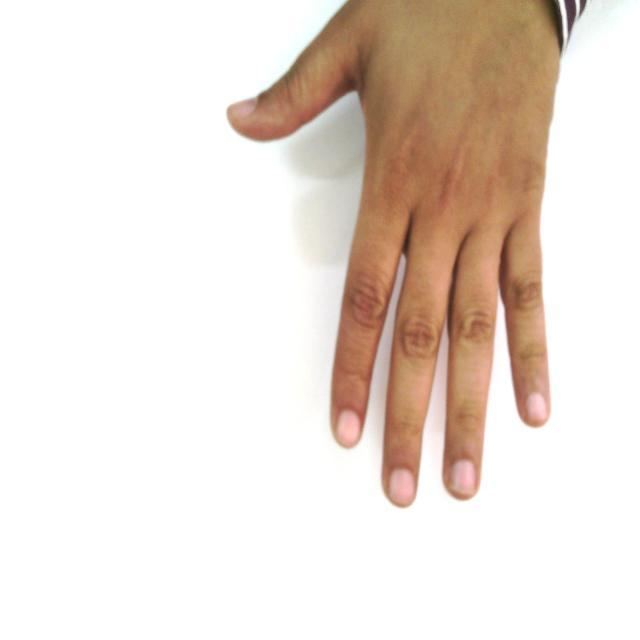Fingernail: (452, 460, 477, 495), (338, 410, 360, 447), (390, 469, 414, 502), (527, 394, 547, 423), (230, 100, 256, 122)
